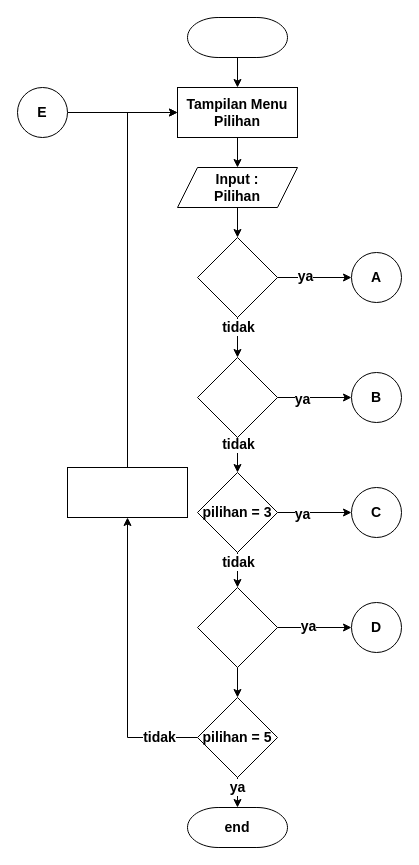
Image size: 419x865. Some labels were removed from this diagram. The centre of each missing label's shape, as x and y in pixels:
"Pilihan tidak tersedia": (x=127, y=492)
pilihan = 1: (x=237, y=277)
pilihan = 2: (x=237, y=397)
pilihan = 4: (x=237, y=627)
Start: (x=237, y=37)
